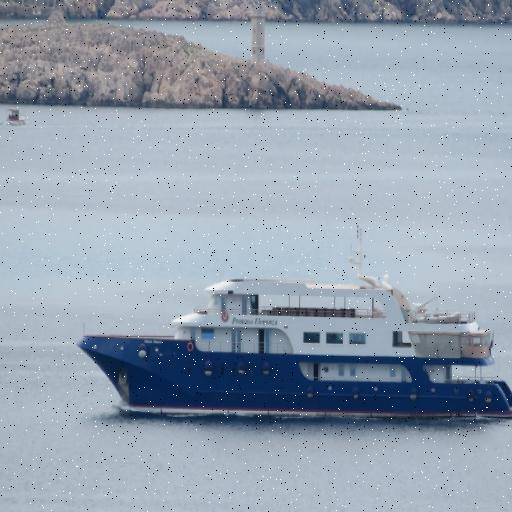cruises: (74, 260, 512, 431)
